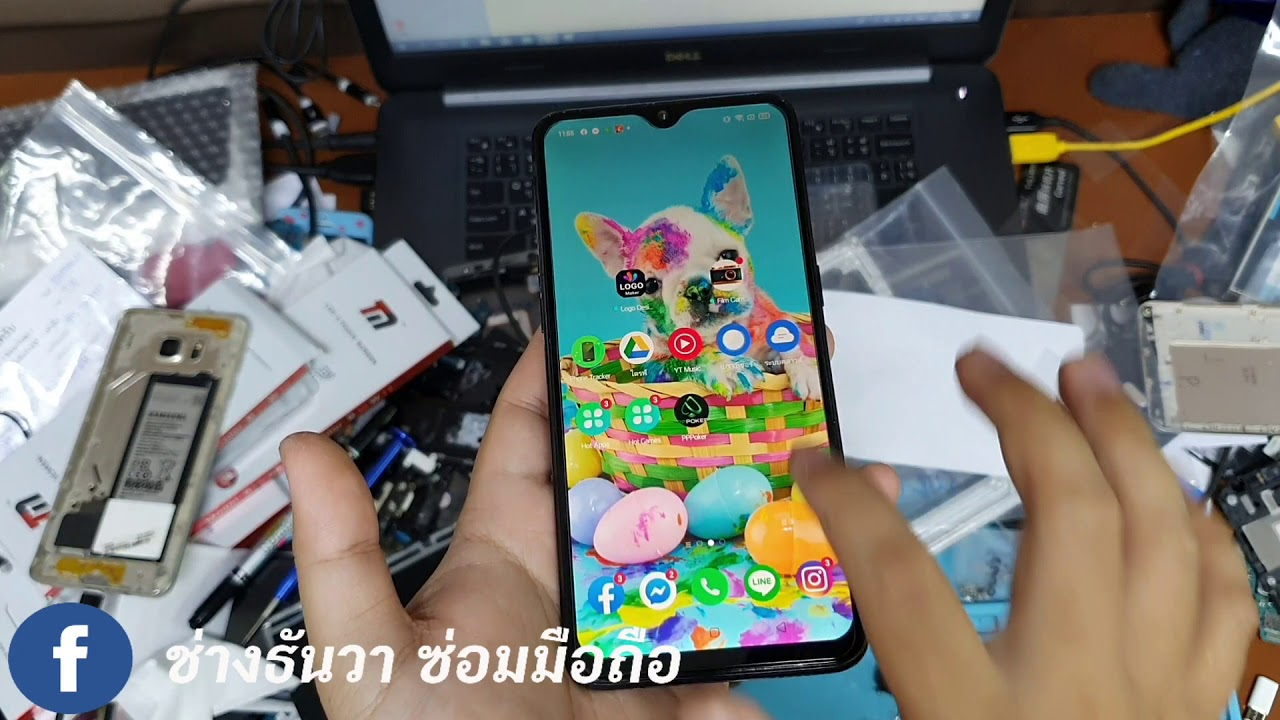Phone: (529, 92, 873, 695), (24, 302, 253, 601)
